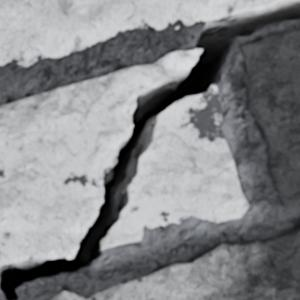brick: (0, 0, 299, 67), (51, 228, 299, 299), (240, 29, 299, 204)
broken_brick: (0, 50, 201, 268), (100, 85, 248, 250)
crack: (0, 2, 299, 299), (142, 223, 145, 230)
